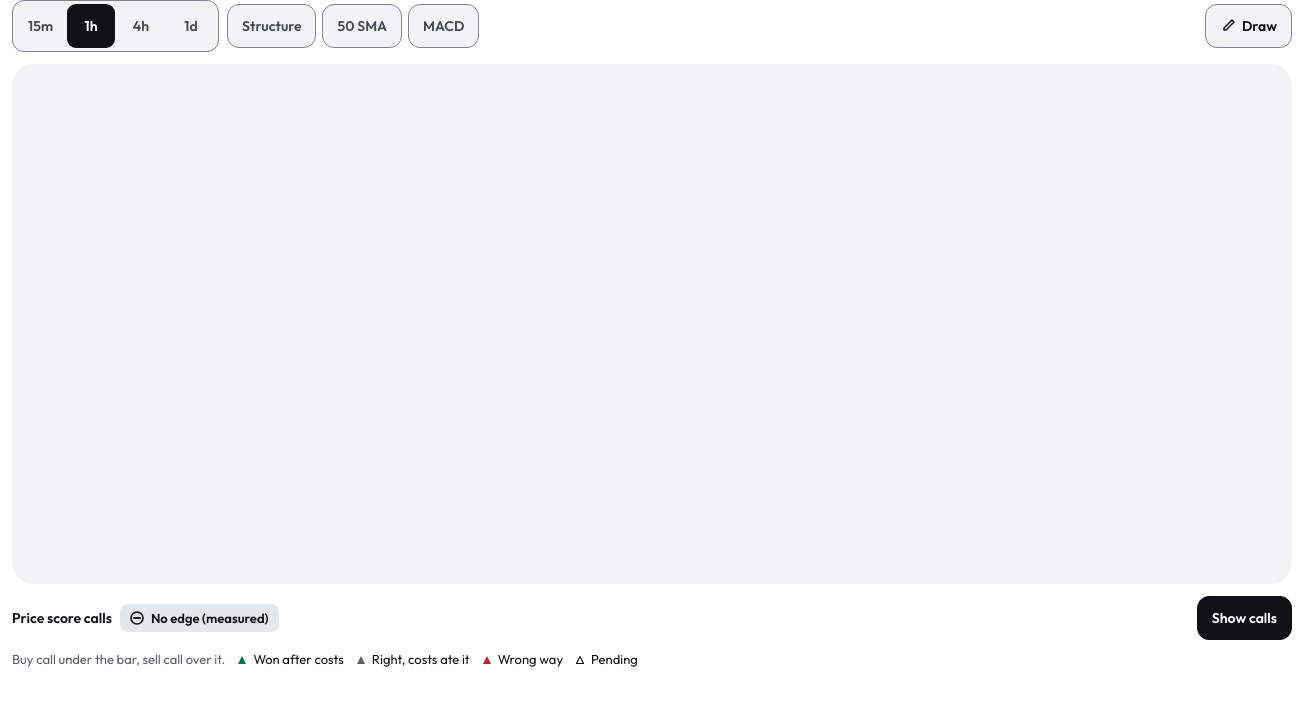
Test: CoinChart › reveals drawing tools when Draw disclosure is clicked
Click the button "Draw".
click(1248, 26)  # box left=1205, top=4, right=1292, bottom=48
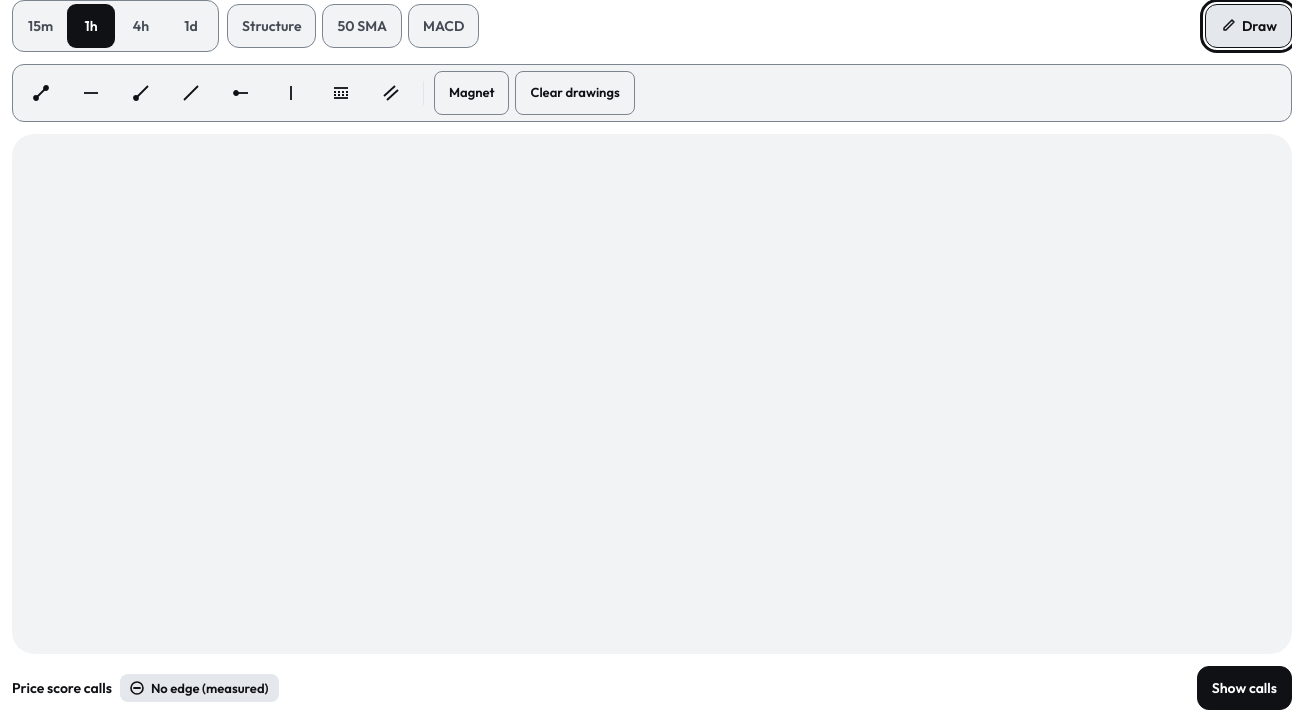
Expected: the element named "Drawing tools" is shown, left=12, top=64, right=1292, bottom=122
Expected: the button named "Trendline" is shown, left=19, top=71, right=63, bottom=115
Expected: the button named "Horizontal Line" is shown, left=69, top=71, right=113, bottom=115
